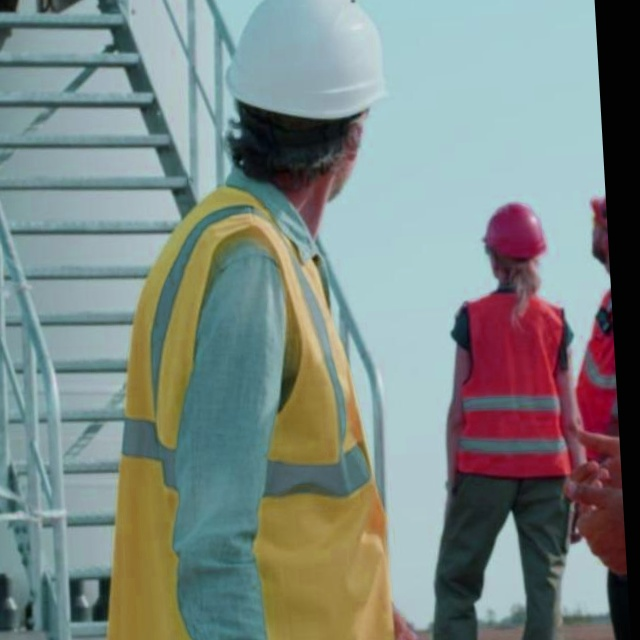Con_Casco: (221, 0, 395, 210), (478, 197, 554, 293)
Con_Chaleco: (104, 194, 402, 640), (457, 289, 577, 486)
